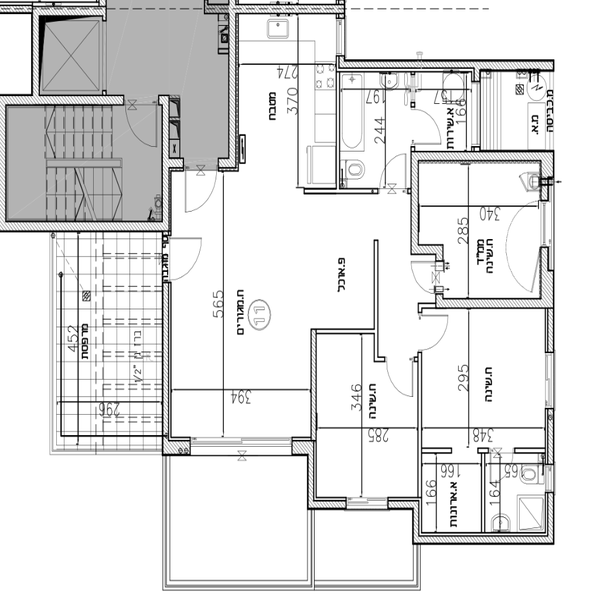door: (185, 158, 230, 214), (158, 229, 206, 279), (401, 100, 449, 147), (418, 310, 458, 352), (378, 358, 417, 400), (404, 251, 438, 295), (377, 149, 408, 194)
room: (157, 152, 321, 460), (410, 294, 558, 549), (330, 52, 564, 167), (403, 141, 560, 302), (1, 94, 169, 236), (307, 314, 422, 513), (224, 4, 340, 199), (34, 7, 243, 103)
wall: (220, 1, 246, 173), (337, 54, 554, 74), (157, 279, 178, 460), (1, 87, 125, 112), (156, 86, 177, 226), (415, 526, 557, 546), (406, 149, 564, 166), (1, 219, 165, 235), (432, 291, 564, 310), (307, 324, 320, 516), (410, 152, 425, 264), (539, 254, 561, 311), (538, 484, 560, 538), (307, 486, 348, 513), (407, 499, 430, 544), (537, 152, 554, 196), (543, 406, 555, 467), (292, 442, 317, 464), (388, 492, 417, 506)
window: (188, 434, 291, 454), (349, 486, 388, 514), (537, 202, 554, 246), (544, 357, 557, 402), (543, 464, 556, 489)
